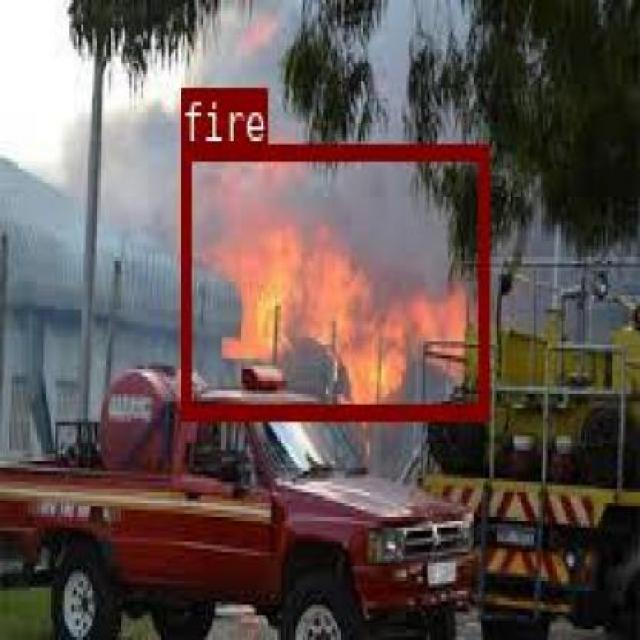Fire: (180, 144, 486, 418)
